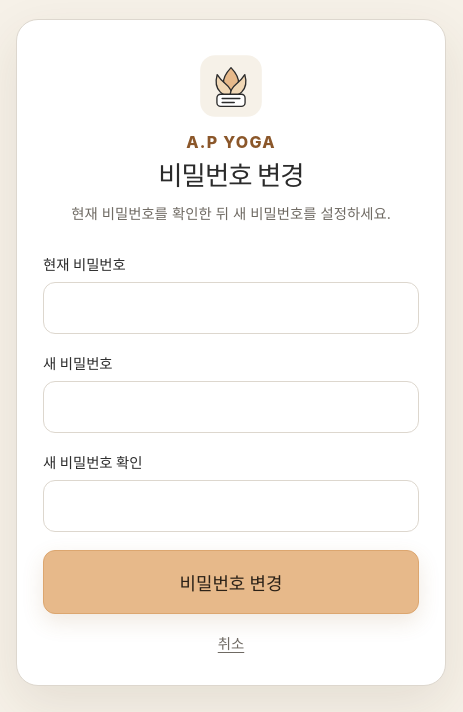
it: password-change view › announces a server error and clears every password
The image size is (463, 712).
In the password field named "currentPassword": (231, 308) [43,282,419,334], type "test-password"
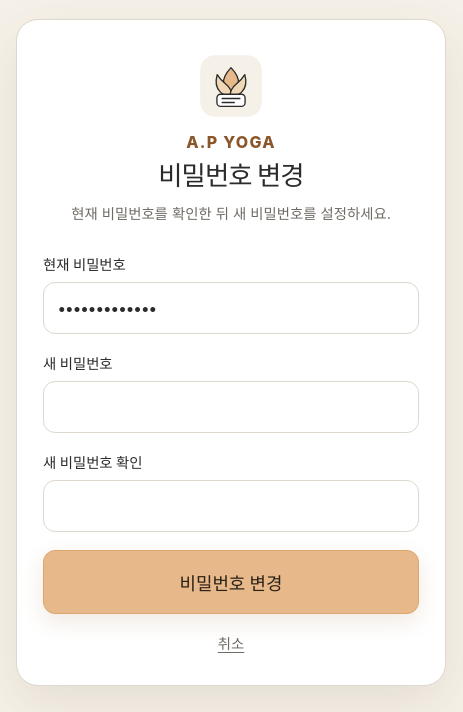
In the password field named "newPassword": (231, 406) [43,380,419,432], type "new-password-123"
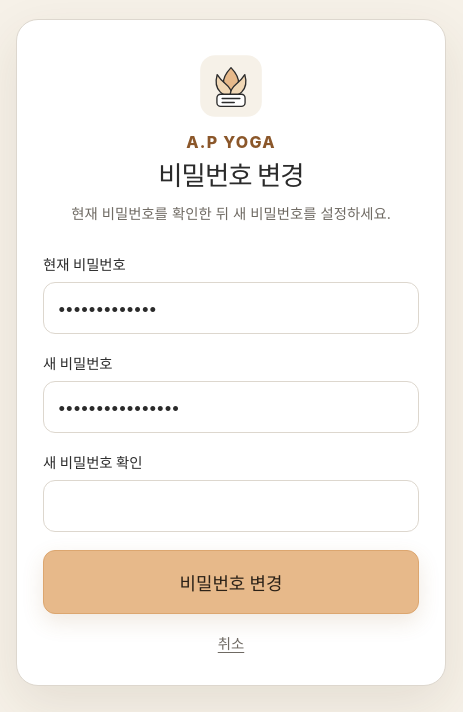
In the password field named "confirmPassword": (231, 506) [43,480,419,532], type "new-password-123"
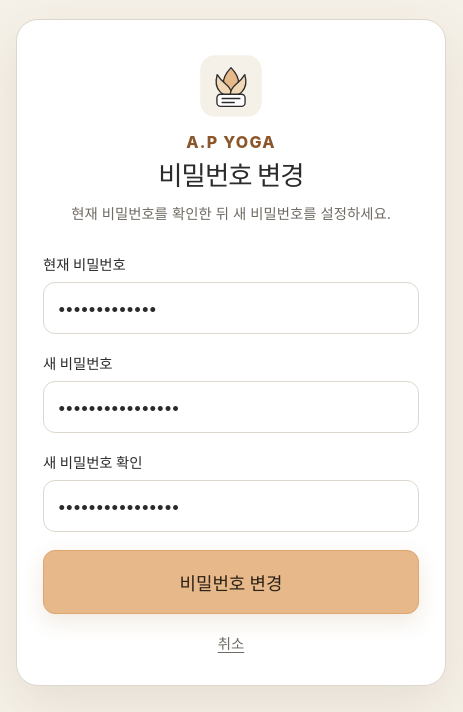
Submit the form, box [43,252,419,652]
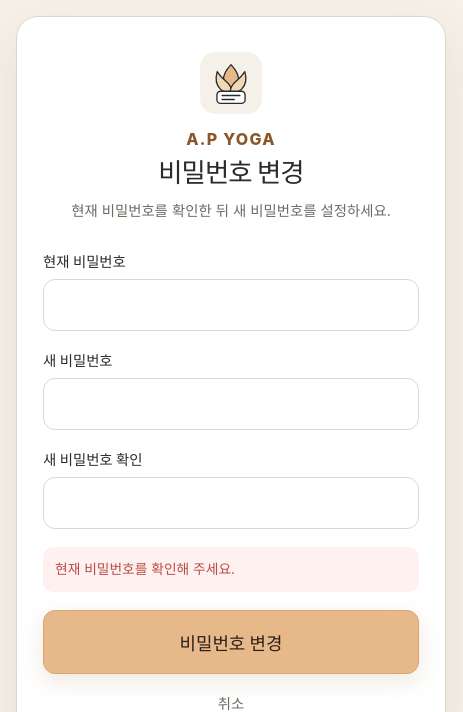
Expected: the submit button is enabled, [43,610,419,674]
Now the message "현재 비밀번호를 확인해 주세요." is shown, box [43,547,419,592]
